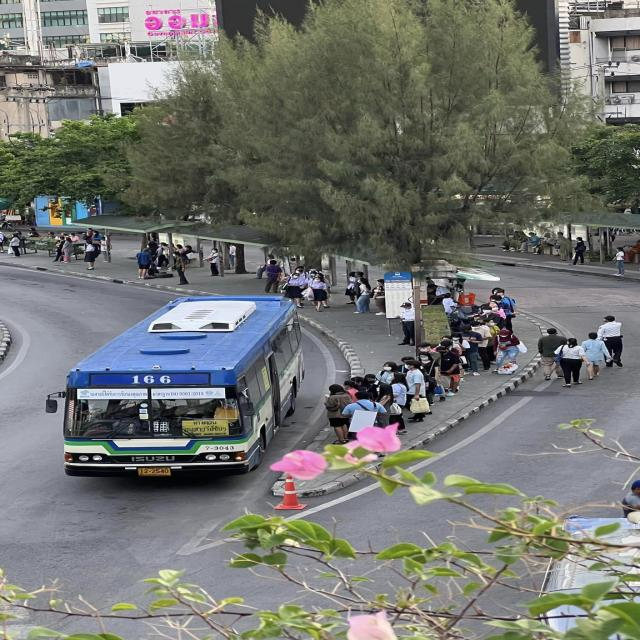BMTA-bus: (60, 294, 306, 478)
Bus-Line-Number: (126, 372, 176, 387)
Destination-Sign-Normal-Expressway: (182, 419, 230, 436)
